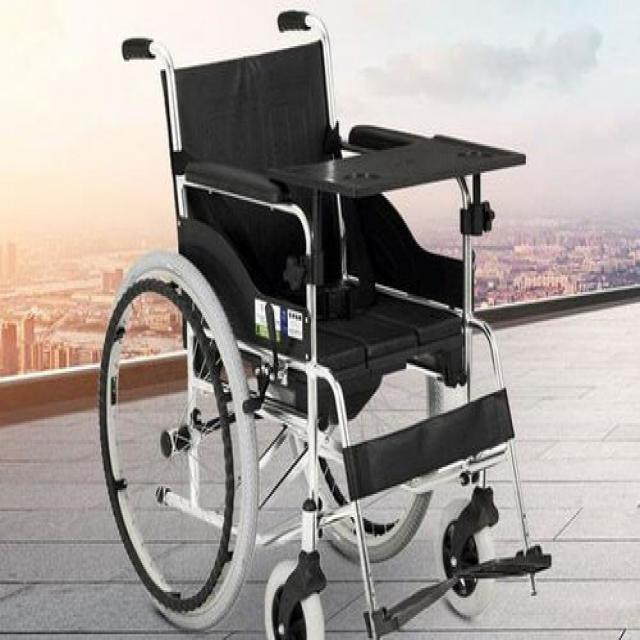wheelchair: (104, 0, 574, 638)
